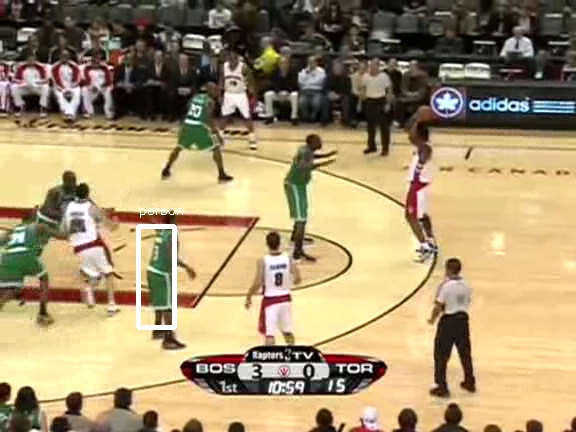person: (147, 231, 181, 312), (146, 231, 180, 312), (148, 231, 182, 312), (147, 230, 181, 311), (147, 232, 181, 313)
target_negative: (200, 151, 354, 415), (255, 255, 435, 404), (75, 398, 437, 429), (427, 352, 474, 432), (516, 293, 574, 349), (399, 395, 494, 397)
